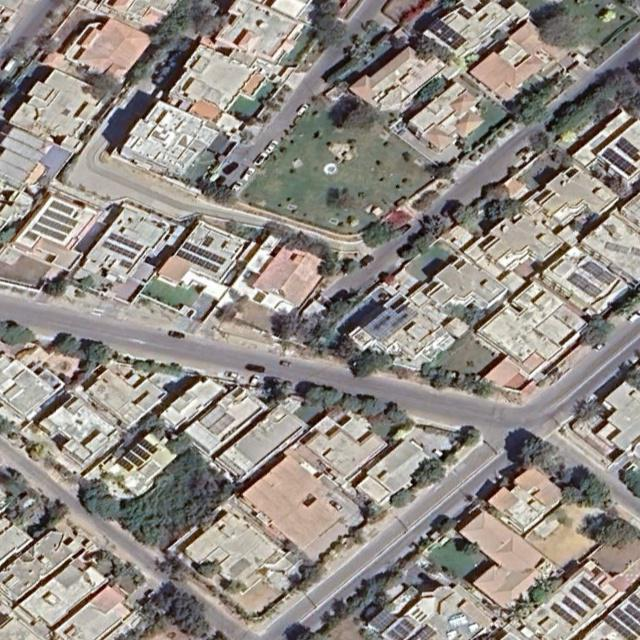solar panel: (361, 298, 414, 342), (426, 17, 467, 52), (176, 249, 220, 274), (182, 241, 227, 265), (602, 146, 636, 175), (604, 614, 637, 640), (368, 606, 397, 634), (613, 606, 640, 635), (108, 231, 143, 253), (385, 616, 416, 640), (102, 240, 137, 261), (579, 576, 608, 601), (569, 586, 599, 610), (43, 208, 78, 228), (550, 602, 578, 626), (32, 223, 67, 242), (38, 216, 73, 235), (561, 595, 588, 619), (616, 136, 639, 158), (583, 258, 604, 278), (49, 200, 74, 216), (597, 269, 617, 288), (569, 272, 590, 290), (138, 436, 157, 454), (125, 451, 144, 468), (132, 444, 151, 461), (623, 603, 640, 622), (584, 282, 602, 299), (117, 456, 134, 472), (628, 593, 640, 610)
